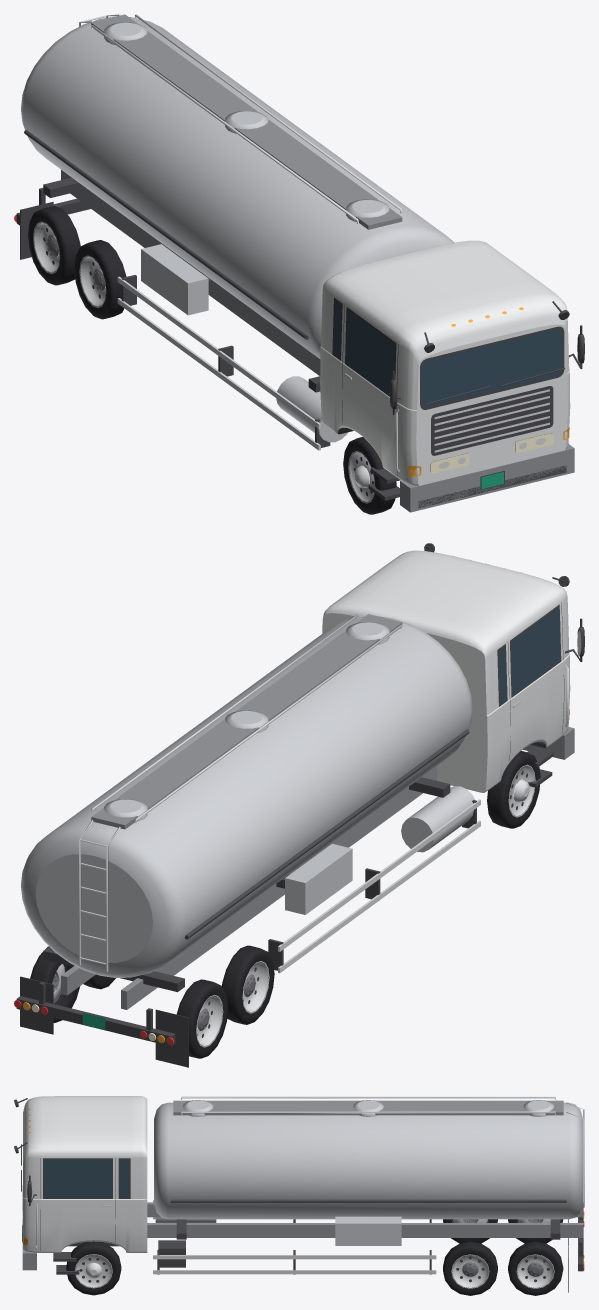
Rendered from 2_close.fbx.
3 views of the same model, one above another, from view 1: azimuth 30°, elevation 25°; view 2: azimuth 150°, elevation 25°; view 3: azimuth 270°, elevation 25° (orthographic). The views are drawn at different scales.
Parts seen in each view (by area): view 1: 11_2_close; view 2: 11_2_close; view 3: 11_2_close.
Boxes of the visible parts, bbox=[...] form: 11_2_close: bbox=[14, 14, 584, 514]; 11_2_close: bbox=[14, 543, 584, 1067]; 11_2_close: bbox=[14, 1096, 584, 1295].
Bounding box in the file's own units: 2.84 × 3.28 × 10.34.
